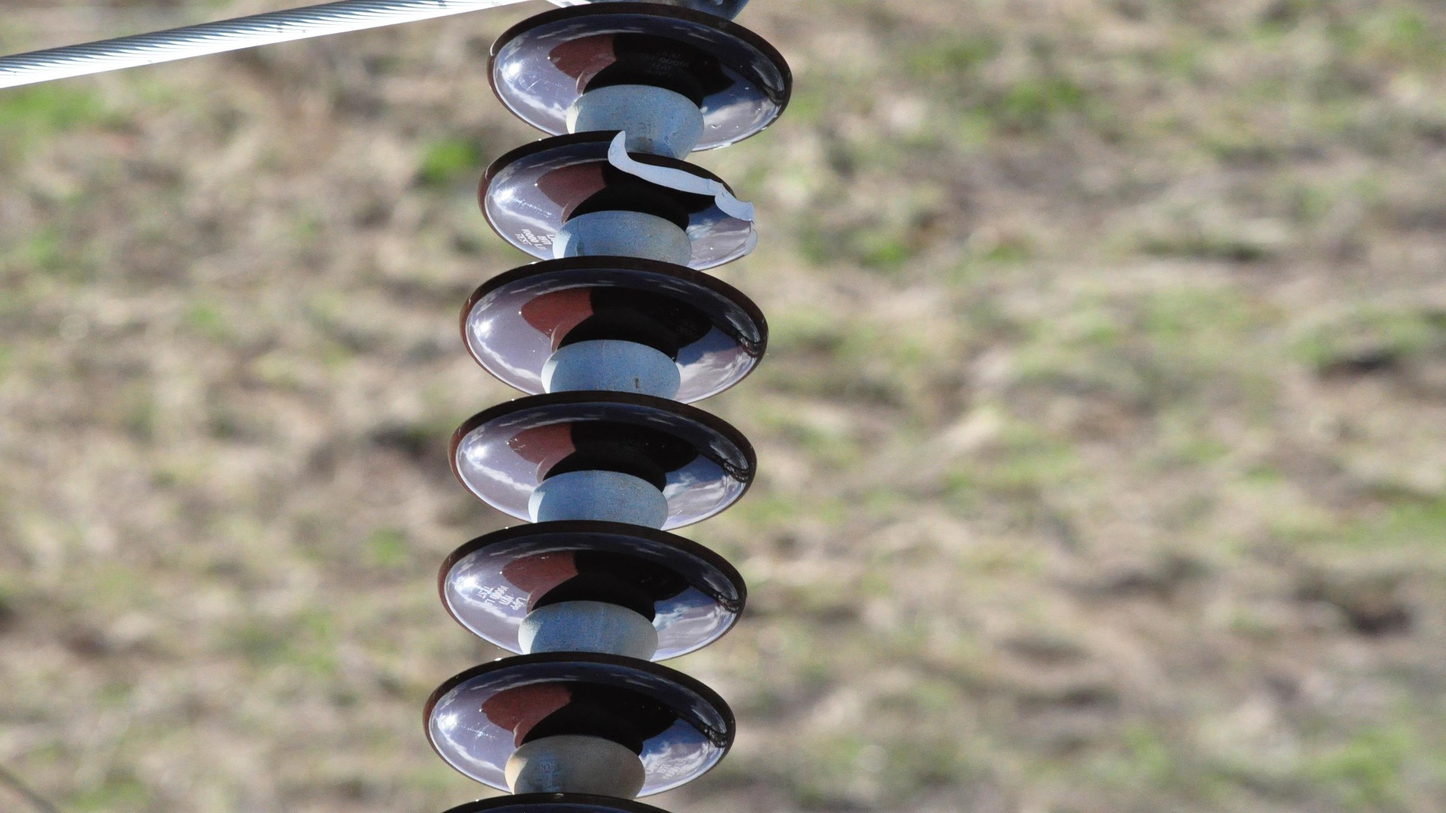insulator: (416, 1, 798, 813)
insulator_breakage: (602, 124, 763, 240)
